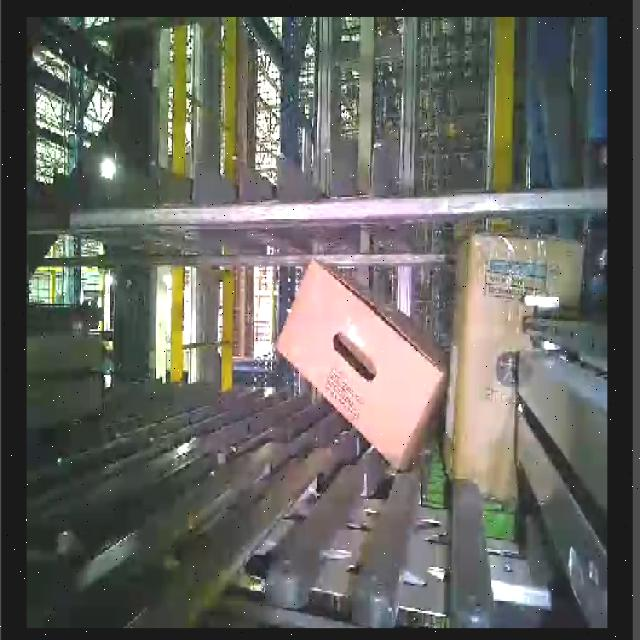box: (246, 251, 470, 473)
